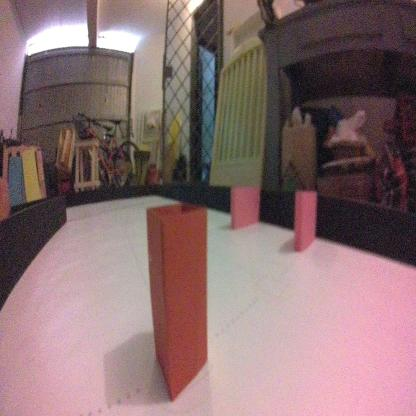magenta: (292, 188, 317, 250), (230, 180, 259, 230)
red: (143, 196, 216, 398)
